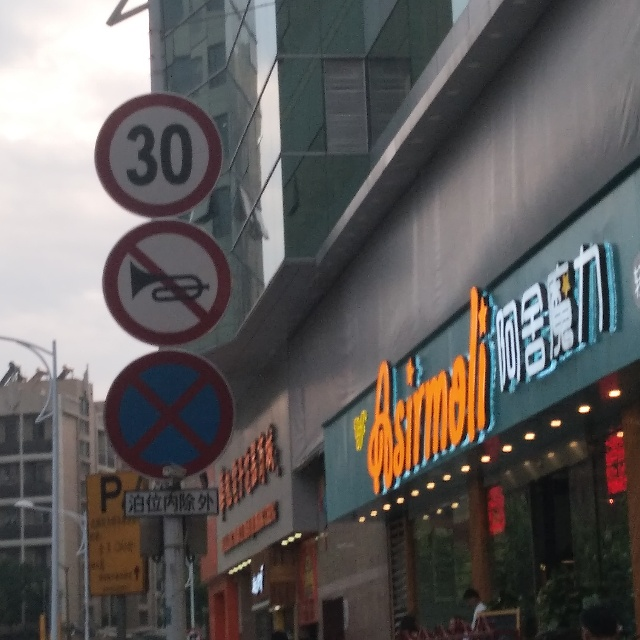nohonk: (102, 220, 232, 347)
stop: (104, 352, 235, 479)
